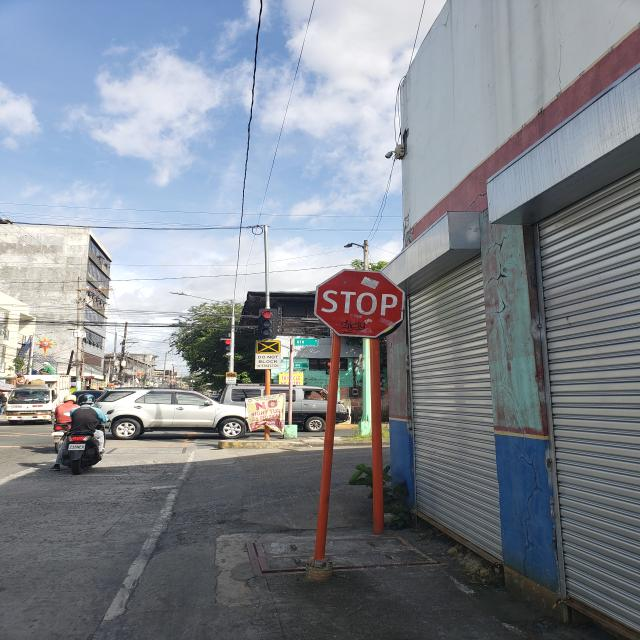stop-sign: (314, 268, 406, 338)
